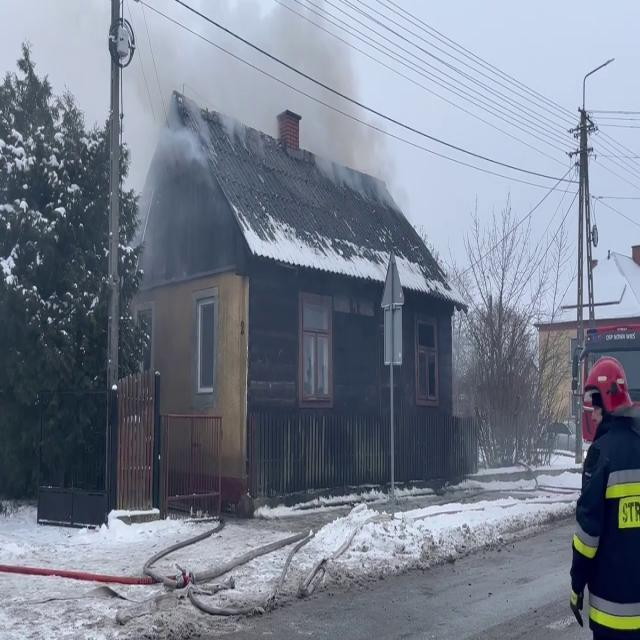Smoke: (280, 0, 390, 206), (141, 86, 217, 196)
